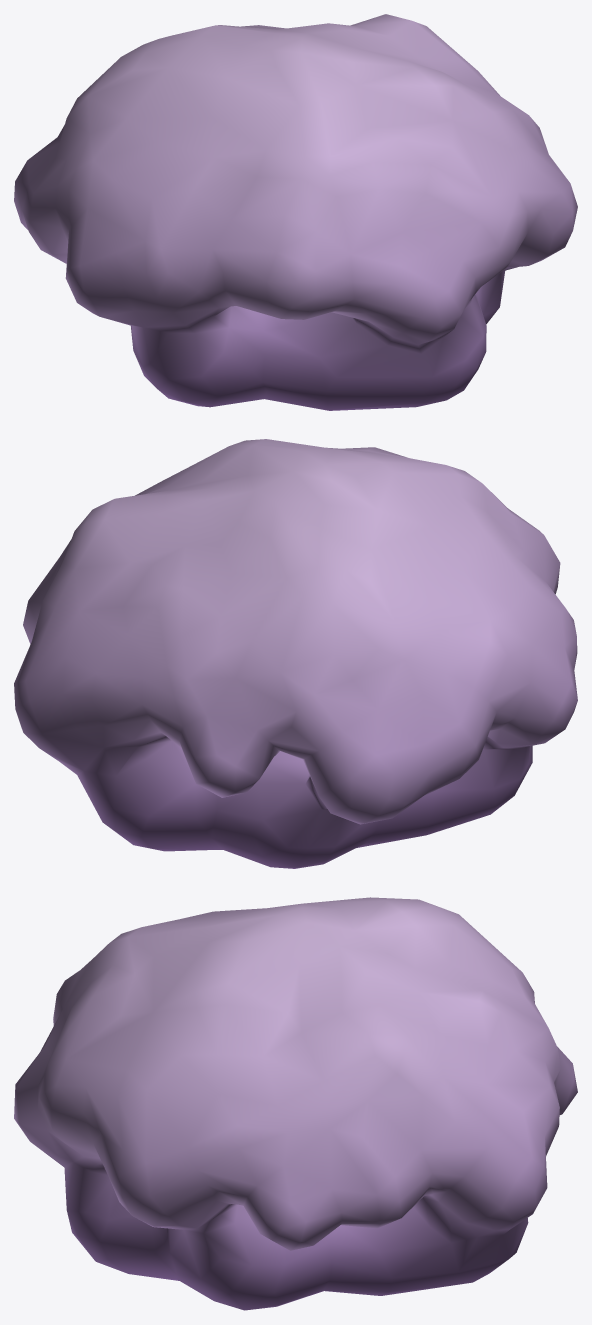
File: brain_lilac_low.glb
The picture shows the model from 3 angles, top to bottom: view 1: azimuth 30°, elevation 25°; view 2: azimuth 150°, elevation 25°; view 3: azimuth 270°, elevation 25°; orthographic projection. The views are drawn at different scales.
Parts seen in each view (by area): view 1: world; view 2: world; view 3: world.
Boxes of the visible parts, x1,y1,x2,y2 form: world: (14, 14, 577, 410); world: (14, 439, 577, 868); world: (14, 897, 577, 1310).
Size of the model in its own units: 0.9631 by 0.626 by 0.9374.
